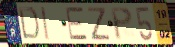5: (134, 6, 153, 42)
D: (17, 6, 40, 41)
E: (65, 6, 90, 42)
I: (40, 6, 51, 41)
P: (109, 6, 134, 42)
Z: (87, 6, 111, 42)
